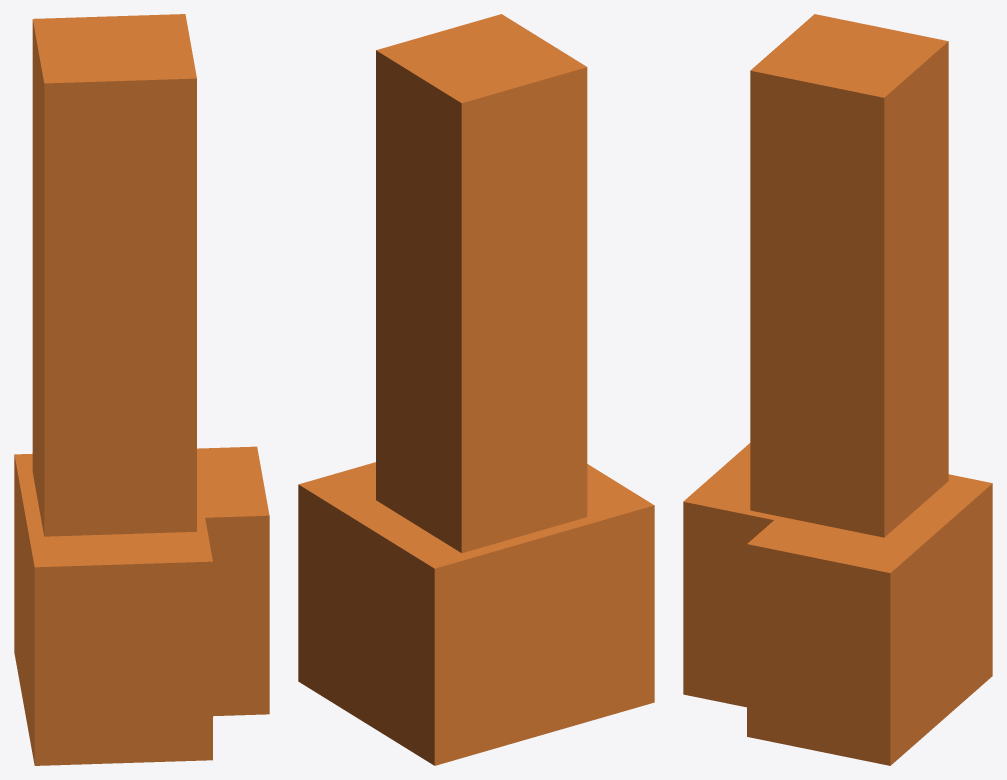
The model's file is skyscraper.fbx.
3 views of the same model, side by side, from view 1: azimuth 30°, elevation 25°; view 2: azimuth 150°, elevation 25°; view 3: azimuth 270°, elevation 25° (orthographic). The views are drawn at different scales.
Visible parts, largest first — view 1: Cube.001; view 2: Cube.001; view 3: Cube.001.
Part boxes in pixels (x1,y1,x2,y2): Cube.001: [14, 14, 269, 765]; Cube.001: [298, 14, 654, 765]; Cube.001: [683, 14, 992, 765].
Bounding box in the file's own units: 1522 × 3264 × 1447.
